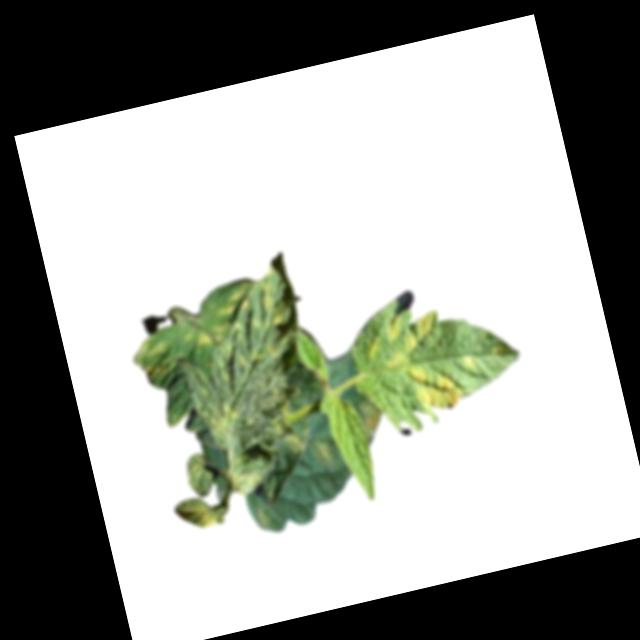Leaf_Mold: (362, 305, 447, 377), (403, 357, 464, 418), (245, 267, 297, 333), (130, 334, 178, 383), (199, 394, 243, 440), (175, 493, 223, 535), (183, 315, 232, 351), (352, 398, 386, 448), (210, 286, 246, 318), (280, 427, 310, 458), (308, 438, 335, 467)
